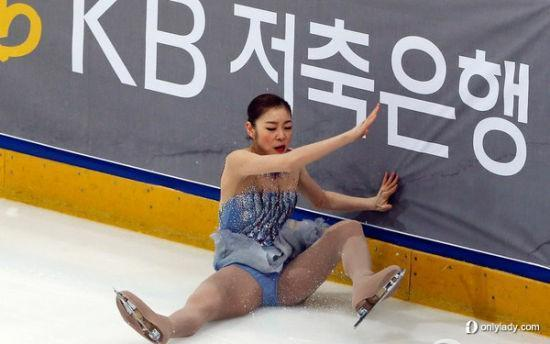Fall-Detected: (112, 82, 421, 343)
